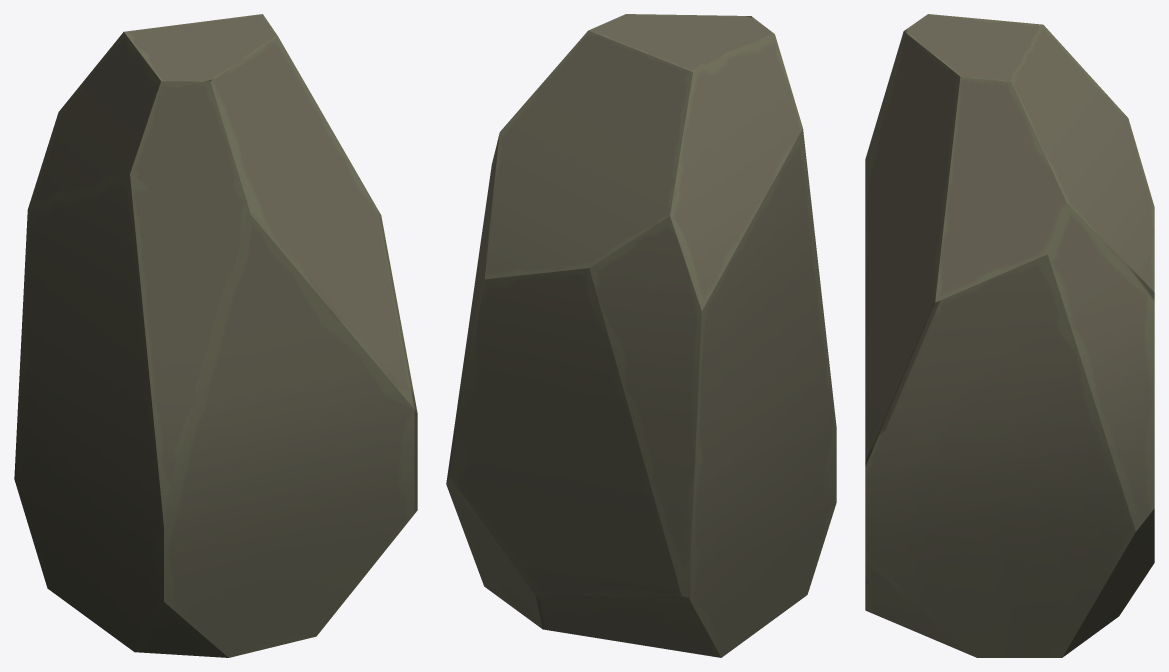
Rendered from Rock3.fbx.
The picture shows the model from 3 angles, left to right: view 1: azimuth 30°, elevation 25°; view 2: azimuth 150°, elevation 25°; view 3: azimuth 270°, elevation 25°; orthographic projection. The views are drawn at different scales.
Visible parts, largest first — view 1: Cube.002; view 2: Cube.002; view 3: Cube.002.
Boxes of the visible parts, bbox=[...] form: Cube.002: bbox=[14, 14, 417, 657]; Cube.002: bbox=[446, 14, 836, 657]; Cube.002: bbox=[865, 14, 1154, 657].
Size of the model in its own units: 357 by 755 by 367.
Materials: 1 (1 with a texture image).
